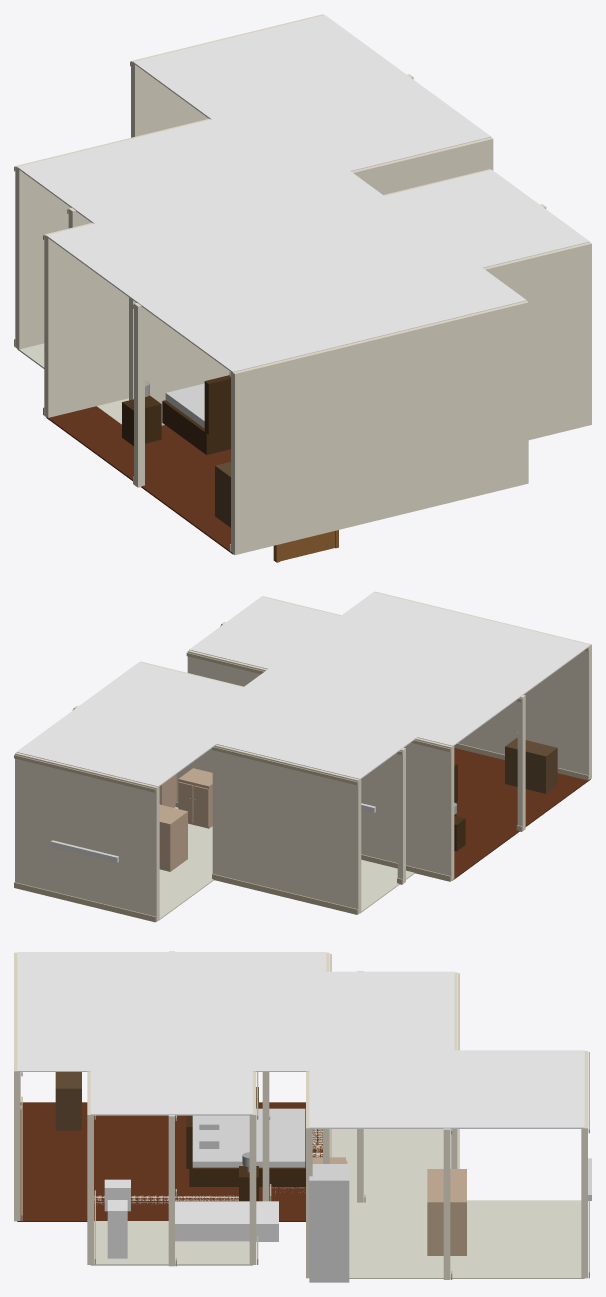
Rendered from ultra_detailed_5784.obj.
3 views of the same model, one above another, from view 1: azimuth 30°, elevation 25°; view 2: azimuth 150°, elevation 25°; view 3: azimuth 270°, elevation 25° (orthographic). The views are drawn at different scales.
Parts seen in each view (by area): view 1: Bedroom_front_wall_Bedroom_front_wall_material, Bedroom_ceiling_Bedroom_ceiling_material, Kitchen_ceiling_Kitchen_ceiling_material, Study_ceiling_Study_ceiling_material, Bathroom_front_wall_Bathroom_front_wall_material, Bedroom_back_wall_Bedroom_back_wall_material, Bathroom_ceiling_Bathroom_ceiling_material, Bedroom_floor_Bedroom_floor_material, Study_back_wall_Study_back_wall_material, Study_front_wall_Study_front_wall_material, Kitchen_front_wall_Kitchen_front_wall_material, Kitchen_back_wall_Kitchen_back_wall_material (+8 smaller); view 2: Bedroom_ceiling_Bedroom_ceiling_material, Study_back_wall_Study_back_wall_material, Kitchen_back_wall_Kitchen_back_wall_material, Kitchen_ceiling_Kitchen_ceiling_material, Study_ceiling_Study_ceiling_material, Bedroom_back_wall_Bedroom_back_wall_material, Bathroom_ceiling_Bathroom_ceiling_material, Bedroom_front_wall_Bedroom_front_wall_material, Bedroom_floor_Bedroom_floor_material, Kitchen_floor_Kitchen_floor_material, Bedroom_dresser_Bedroom_dresser_material, Kitchen_island_Kitchen_island_material (+16 smaller); view 3: Bedroom_ceiling_Bedroom_ceiling_material, Kitchen_ceiling_Kitchen_ceiling_material, Bedroom_floor_Bedroom_floor_material, Kitchen_floor_Kitchen_floor_material, Study_ceiling_Study_ceiling_material, Bathroom_ceiling_Bathroom_ceiling_material, Study_floor_Study_floor_material, Bathroom_floor_Bathroom_floor_material, Bedroom_bed_mattress_Bedroom_bed_bedding, Kitchen_fridge_Kitchen_fridge_material, Bathroom_tub_Bathroom_toilet_material, Kitchen_island_Kitchen_island_material (+15 smaller).
Boxes of the visible parts, left/top/right/bottom form: Bedroom_front_wall_Bedroom_front_wall_material: left=231, top=301, right=528, bottom=554; Bedroom_ceiling_Bedroom_ceiling_material: left=46, top=171, right=526, bottom=372; Kitchen_ceiling_Kitchen_ceiling_material: left=133, top=15, right=491, bottom=183; Study_ceiling_Study_ceiling_material: left=17, top=119, right=327, bottom=231; Bathroom_front_wall_Bathroom_front_wall_material: left=483, top=242, right=591, bottom=439; Bedroom_back_wall_Bedroom_back_wall_material: left=44, top=222, right=128, bottom=418; Bathroom_ceiling_Bathroom_ceiling_material: left=329, top=170, right=589, bottom=282; Bedroom_floor_Bedroom_floor_material: left=46, top=406, right=232, bottom=554; Study_back_wall_Study_back_wall_material: left=15, top=118, right=210, bottom=349; Study_front_wall_Study_front_wall_material: left=129, top=297, right=229, bottom=425; Kitchen_front_wall_Kitchen_front_wall_material: left=351, top=137, right=493, bottom=194; Kitchen_back_wall_Kitchen_back_wall_material: left=131, top=14, right=323, bottom=137; Bedroom_ceiling_Bedroom_ceiling_material: left=236, top=592, right=590, bottom=746; Study_back_wall_Study_back_wall_material: left=212, top=744, right=361, bottom=914; Kitchen_back_wall_Kitchen_back_wall_material: left=15, top=752, right=159, bottom=921; Kitchen_ceiling_Kitchen_ceiling_material: left=16, top=662, right=279, bottom=786; Study_ceiling_Study_ceiling_material: left=214, top=686, right=443, bottom=779; Bedroom_back_wall_Bedroom_back_wall_material: left=361, top=737, right=454, bottom=880; Bathroom_ceiling_Bathroom_ceiling_material: left=189, top=596, right=385, bottom=679; Bedroom_front_wall_Bedroom_front_wall_material: left=374, top=591, right=591, bottom=779; Bedroom_floor_Bedroom_floor_material: left=452, top=748, right=590, bottom=880; Kitchen_floor_Kitchen_floor_material: left=158, top=807, right=213, bottom=920; Bedroom_dresser_Bedroom_dresser_material: left=505, top=738, right=557, bottom=793; Kitchen_island_Kitchen_island_material: left=159, top=804, right=187, bottom=871; Bedroom_ceiling_Bedroom_ceiling_material: left=17, top=952, right=326, bottom=1071; Kitchen_ceiling_Kitchen_ceiling_material: left=309, top=1050, right=584, bottom=1128; Bedroom_floor_Bedroom_floor_material: left=17, top=1102, right=322, bottom=1221; Kitchen_floor_Kitchen_floor_material: left=349, top=1200, right=584, bottom=1278; Study_ceiling_Study_ceiling_material: left=266, top=971, right=454, bottom=1051; Bathroom_ceiling_Bathroom_ceiling_material: left=90, top=1045, right=252, bottom=1115; Study_floor_Study_floor_material: left=272, top=1129, right=451, bottom=1201; Bathroom_floor_Bathroom_floor_material: left=90, top=1195, right=252, bottom=1265; Bedroom_bed_mattress_Bedroom_bed_bedding: left=192, top=1108, right=305, bottom=1167; Kitchen_fridge_Kitchen_fridge_material: left=309, top=1164, right=349, bottom=1282; Bathroom_tub_Bathroom_toilet_material: left=175, top=1201, right=278, bottom=1241; Kitchen_island_Kitchen_island_material: left=427, top=1169, right=466, bottom=1255.
Bounding box in the file's own units: 6.48 × 2.76 × 8.73.
